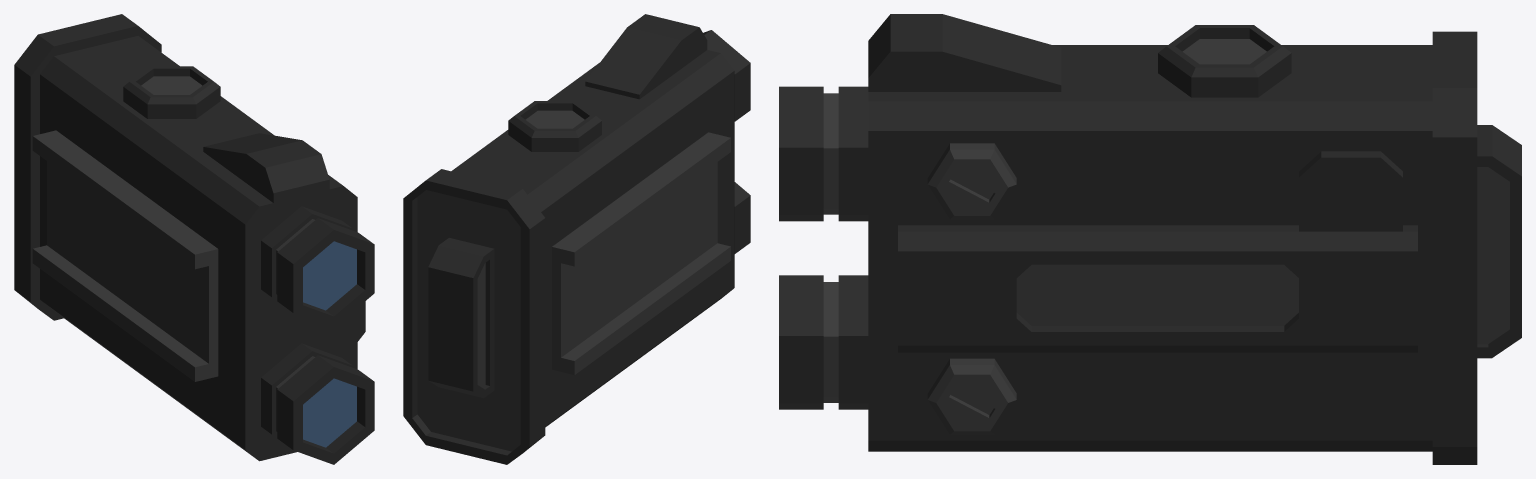
File: Laser_D_Left.fbx
The picture shows the model from 3 angles, left to right: view 1: azimuth 30°, elevation 25°; view 2: azimuth 150°, elevation 25°; view 3: azimuth 270°, elevation 25°; orthographic projection. The views are drawn at different scales.
Parts seen in each view (by area): view 1: Laser_D_Left; view 2: Laser_D_Left; view 3: Laser_D_Left.
Part boxes in pixels (x1=…): Laser_D_Left: x1=14, y1=14, x2=374, y2=464; Laser_D_Left: x1=403, y1=14, x2=750, y2=464; Laser_D_Left: x1=779, y1=14, x2=1521, y2=464.
Size of the model in its own units: 0.0412 by 0.075 by 0.125.
